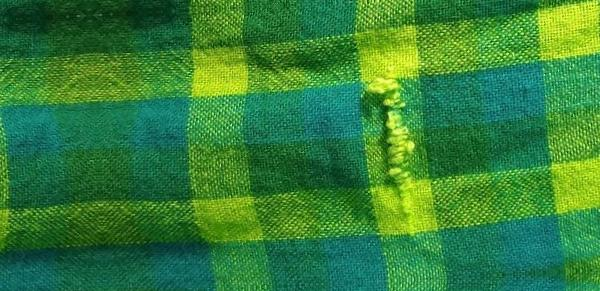knot: (361, 75, 424, 229)
